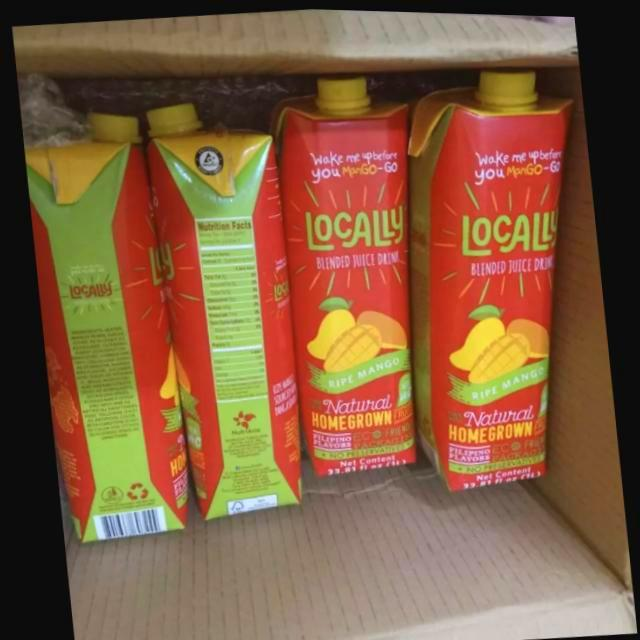cardboard: (62, 437, 636, 640), (527, 58, 629, 586), (12, 7, 580, 74)
